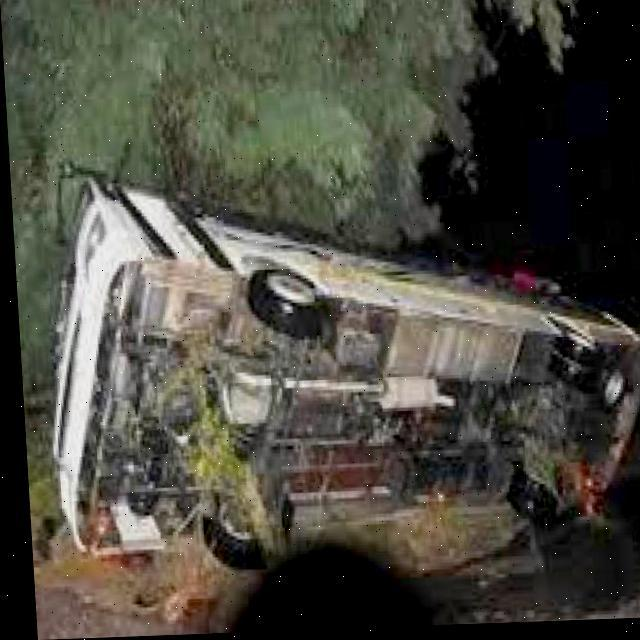single accident: (17, 97, 640, 585)
